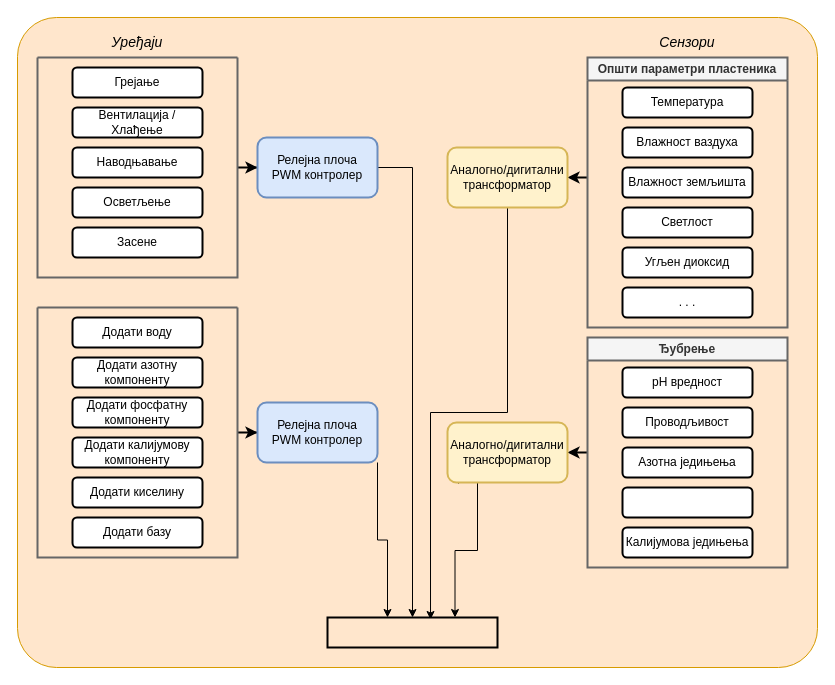
The diagram is 835 pixels wide and 685 high, and some of its shapes have lost their labels. Here are the shapes that lost their labels. From the top down, the centre of each, then its label:
At (687,502): "Фосфатна једињења".
At (412,632): "Хардверски слој".
